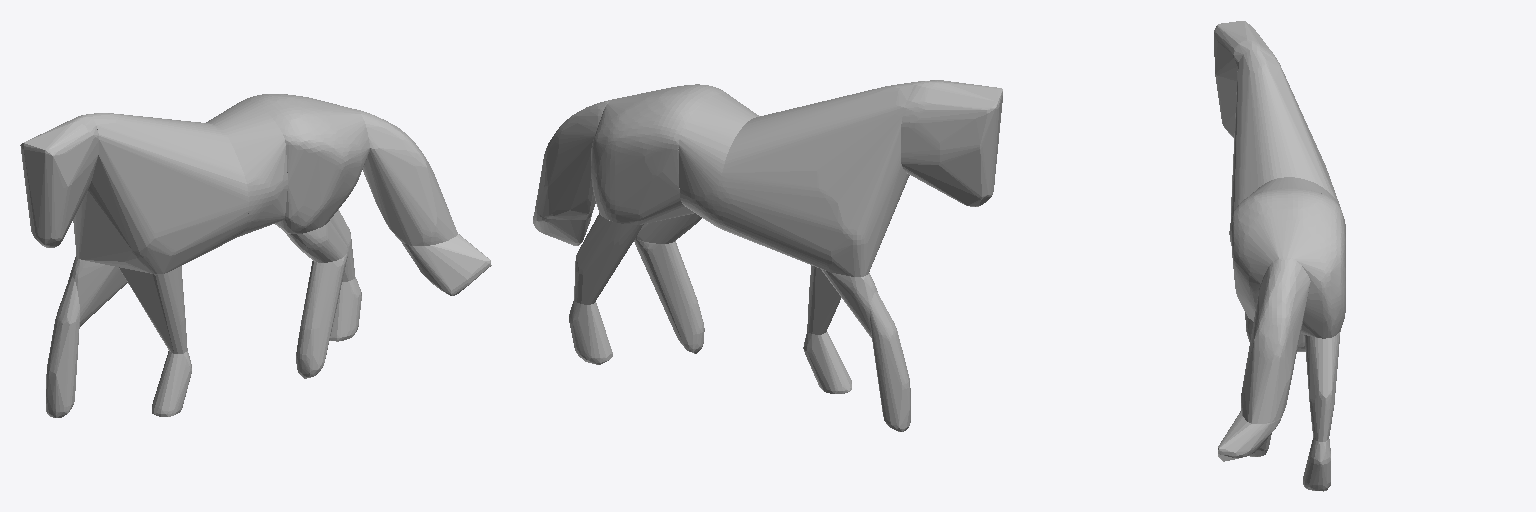
The robot description file, URDF, robot "root":
<robot name="root">
  <link name="link_coacd_convex_piece_0">
    <inertial>
      <origin xyz="0 0 0" rpy="0 0 0"/>
      <inertia ixx="8.27E-05" ixy="1.38E-04" ixz="2.84E-04" iyy="9.60E-04" iyz="-4.28E-05" izz="9.26E-04"/>
    </inertial>
    <visual>
      <origin xyz="0 0 0" rpy="0 0 0"/>
      <geometry>
        <mesh filename="coacd_convex_piece_0.obj" scale="1.0000E+00 1.0000E+00 1.0000E+00"/>
      </geometry>
      <material name="">
        <color rgba="7.50E-01 7.50E-01 7.50E-01 1"/>
      </material>
    </visual>
    <collision>
      <origin xyz="0 0 0" rpy="0 0 0"/>
      <geometry>
        <mesh filename="coacd_convex_piece_0.obj" scale="1.0000E+00 1.0000E+00 1.0000E+00"/>
      </geometry>
    </collision>
  </link>
  <link name="link_coacd_convex_piece_1">
    <inertial>
      <origin xyz="0 0 0" rpy="0 0 0"/>
      <inertia ixx="-4.05E-05" ixy="9.04E-05" ixz="-1.05E-04" iyy="2.29E-03" iyz="1.65E-06" izz="2.36E-03"/>
    </inertial>
    <visual>
      <origin xyz="0 0 0" rpy="0 0 0"/>
      <geometry>
        <mesh filename="coacd_convex_piece_1.obj" scale="1.0000E+00 1.0000E+00 1.0000E+00"/>
      </geometry>
      <material name="">
        <color rgba="7.50E-01 7.50E-01 7.50E-01 1"/>
      </material>
    </visual>
    <collision>
      <origin xyz="0 0 0" rpy="0 0 0"/>
      <geometry>
        <mesh filename="coacd_convex_piece_1.obj" scale="1.0000E+00 1.0000E+00 1.0000E+00"/>
      </geometry>
    </collision>
  </link>
  <joint name="link_coacd_convex_piece_1_joint" type="fixed">
    <origin xyz="0 0 0" rpy="0 0 0"/>
    <parent link="link_coacd_convex_piece_0"/>
    <child link="link_coacd_convex_piece_1"/>
  </joint>
  <link name="link_coacd_convex_piece_2">
    <inertial>
      <origin xyz="0 0 0" rpy="0 0 0"/>
      <inertia ixx="1.08E-03" ixy="-5.48E-04" ixz="1.91E-03" iyy="4.52E-03" iyz="3.11E-04" izz="3.63E-03"/>
    </inertial>
    <visual>
      <origin xyz="0 0 0" rpy="0 0 0"/>
      <geometry>
        <mesh filename="coacd_convex_piece_2.obj" scale="1.0000E+00 1.0000E+00 1.0000E+00"/>
      </geometry>
      <material name="">
        <color rgba="7.50E-01 7.50E-01 7.50E-01 1"/>
      </material>
    </visual>
    <collision>
      <origin xyz="0 0 0" rpy="0 0 0"/>
      <geometry>
        <mesh filename="coacd_convex_piece_2.obj" scale="1.0000E+00 1.0000E+00 1.0000E+00"/>
      </geometry>
    </collision>
  </link>
  <joint name="link_coacd_convex_piece_2_joint" type="fixed">
    <origin xyz="0 0 0" rpy="0 0 0"/>
    <parent link="link_coacd_convex_piece_1"/>
    <child link="link_coacd_convex_piece_2"/>
  </joint>
  <link name="link_coacd_convex_piece_3">
    <inertial>
      <origin xyz="0 0 0" rpy="0 0 0"/>
      <inertia ixx="1.68E-03" ixy="-1.10E-05" ixz="2.32E-03" iyy="5.58E-03" iyz="1.31E-04" izz="4.54E-03"/>
    </inertial>
    <visual>
      <origin xyz="0 0 0" rpy="0 0 0"/>
      <geometry>
        <mesh filename="coacd_convex_piece_3.obj" scale="1.0000E+00 1.0000E+00 1.0000E+00"/>
      </geometry>
      <material name="">
        <color rgba="7.50E-01 7.50E-01 7.50E-01 1"/>
      </material>
    </visual>
    <collision>
      <origin xyz="0 0 0" rpy="0 0 0"/>
      <geometry>
        <mesh filename="coacd_convex_piece_3.obj" scale="1.0000E+00 1.0000E+00 1.0000E+00"/>
      </geometry>
    </collision>
  </link>
  <joint name="link_coacd_convex_piece_3_joint" type="fixed">
    <origin xyz="0 0 0" rpy="0 0 0"/>
    <parent link="link_coacd_convex_piece_2"/>
    <child link="link_coacd_convex_piece_3"/>
  </joint>
  <link name="link_coacd_convex_piece_4">
    <inertial>
      <origin xyz="0 0 0" rpy="0 0 0"/>
      <inertia ixx="2.55E-05" ixy="-2.80E-05" ixz="-9.64E-05" iyy="1.84E-04" iyz="-1.17E-05" izz="1.71E-04"/>
    </inertial>
    <visual>
      <origin xyz="0 0 0" rpy="0 0 0"/>
      <geometry>
        <mesh filename="coacd_convex_piece_4.obj" scale="1.0000E+00 1.0000E+00 1.0000E+00"/>
      </geometry>
      <material name="">
        <color rgba="7.50E-01 7.50E-01 7.50E-01 1"/>
      </material>
    </visual>
    <collision>
      <origin xyz="0 0 0" rpy="0 0 0"/>
      <geometry>
        <mesh filename="coacd_convex_piece_4.obj" scale="1.0000E+00 1.0000E+00 1.0000E+00"/>
      </geometry>
    </collision>
  </link>
  <joint name="link_coacd_convex_piece_4_joint" type="fixed">
    <origin xyz="0 0 0" rpy="0 0 0"/>
    <parent link="link_coacd_convex_piece_3"/>
    <child link="link_coacd_convex_piece_4"/>
  </joint>
  <link name="link_coacd_convex_piece_5">
    <inertial>
      <origin xyz="0 0 0" rpy="0 0 0"/>
      <inertia ixx="2.08E-06" ixy="6.02E-05" ixz="-8.87E-05" iyy="3.00E-04" iyz="1.84E-05" izz="3.24E-04"/>
    </inertial>
    <visual>
      <origin xyz="0 0 0" rpy="0 0 0"/>
      <geometry>
        <mesh filename="coacd_convex_piece_5.obj" scale="1.0000E+00 1.0000E+00 1.0000E+00"/>
      </geometry>
      <material name="">
        <color rgba="7.50E-01 7.50E-01 7.50E-01 1"/>
      </material>
    </visual>
    <collision>
      <origin xyz="0 0 0" rpy="0 0 0"/>
      <geometry>
        <mesh filename="coacd_convex_piece_5.obj" scale="1.0000E+00 1.0000E+00 1.0000E+00"/>
      </geometry>
    </collision>
  </link>
  <joint name="link_coacd_convex_piece_5_joint" type="fixed">
    <origin xyz="0 0 0" rpy="0 0 0"/>
    <parent link="link_coacd_convex_piece_4"/>
    <child link="link_coacd_convex_piece_5"/>
  </joint>
  <link name="link_coacd_convex_piece_6">
    <inertial>
      <origin xyz="0 0 0" rpy="0 0 0"/>
      <inertia ixx="1.91E-04" ixy="2.79E-05" ixz="1.60E-04" iyy="3.33E-04" iyz="-3.42E-05" izz="1.56E-04"/>
    </inertial>
    <visual>
      <origin xyz="0 0 0" rpy="0 0 0"/>
      <geometry>
        <mesh filename="coacd_convex_piece_6.obj" scale="1.0000E+00 1.0000E+00 1.0000E+00"/>
      </geometry>
      <material name="">
        <color rgba="7.50E-01 7.50E-01 7.50E-01 1"/>
      </material>
    </visual>
    <collision>
      <origin xyz="0 0 0" rpy="0 0 0"/>
      <geometry>
        <mesh filename="coacd_convex_piece_6.obj" scale="1.0000E+00 1.0000E+00 1.0000E+00"/>
      </geometry>
    </collision>
  </link>
  <joint name="link_coacd_convex_piece_6_joint" type="fixed">
    <origin xyz="0 0 0" rpy="0 0 0"/>
    <parent link="link_coacd_convex_piece_5"/>
    <child link="link_coacd_convex_piece_6"/>
  </joint>
  <link name="link_coacd_convex_piece_7">
    <inertial>
      <origin xyz="0 0 0" rpy="0 0 0"/>
      <inertia ixx="1.58E-04" ixy="-1.27E-05" ixz="-9.51E-05" iyy="2.03E-04" iyz="-2.16E-05" izz="5.21E-05"/>
    </inertial>
    <visual>
      <origin xyz="0 0 0" rpy="0 0 0"/>
      <geometry>
        <mesh filename="coacd_convex_piece_7.obj" scale="1.0000E+00 1.0000E+00 1.0000E+00"/>
      </geometry>
      <material name="">
        <color rgba="7.50E-01 7.50E-01 7.50E-01 1"/>
      </material>
    </visual>
    <collision>
      <origin xyz="0 0 0" rpy="0 0 0"/>
      <geometry>
        <mesh filename="coacd_convex_piece_7.obj" scale="1.0000E+00 1.0000E+00 1.0000E+00"/>
      </geometry>
    </collision>
  </link>
  <joint name="link_coacd_convex_piece_7_joint" type="fixed">
    <origin xyz="0 0 0" rpy="0 0 0"/>
    <parent link="link_coacd_convex_piece_6"/>
    <child link="link_coacd_convex_piece_7"/>
  </joint>
  <link name="link_coacd_convex_piece_8">
    <inertial>
      <origin xyz="0 0 0" rpy="0 0 0"/>
      <inertia ixx="1.82E-04" ixy="6.67E-05" ixz="-2.99E-04" iyy="6.23E-04" iyz="4.51E-05" izz="4.62E-04"/>
    </inertial>
    <visual>
      <origin xyz="0 0 0" rpy="0 0 0"/>
      <geometry>
        <mesh filename="coacd_convex_piece_8.obj" scale="1.0000E+00 1.0000E+00 1.0000E+00"/>
      </geometry>
      <material name="">
        <color rgba="7.50E-01 7.50E-01 7.50E-01 1"/>
      </material>
    </visual>
    <collision>
      <origin xyz="0 0 0" rpy="0 0 0"/>
      <geometry>
        <mesh filename="coacd_convex_piece_8.obj" scale="1.0000E+00 1.0000E+00 1.0000E+00"/>
      </geometry>
    </collision>
  </link>
  <joint name="link_coacd_convex_piece_8_joint" type="fixed">
    <origin xyz="0 0 0" rpy="0 0 0"/>
    <parent link="link_coacd_convex_piece_7"/>
    <child link="link_coacd_convex_piece_8"/>
  </joint>
  <link name="link_coacd_convex_piece_9">
    <inertial>
      <origin xyz="0 0 0" rpy="0 0 0"/>
      <inertia ixx="5.89E-05" ixy="-1.19E-04" ixz="1.27E-04" iyy="3.71E-04" iyz="4.72E-05" izz="3.94E-04"/>
    </inertial>
    <visual>
      <origin xyz="0 0 0" rpy="0 0 0"/>
      <geometry>
        <mesh filename="coacd_convex_piece_9.obj" scale="1.0000E+00 1.0000E+00 1.0000E+00"/>
      </geometry>
      <material name="">
        <color rgba="7.50E-01 7.50E-01 7.50E-01 1"/>
      </material>
    </visual>
    <collision>
      <origin xyz="0 0 0" rpy="0 0 0"/>
      <geometry>
        <mesh filename="coacd_convex_piece_9.obj" scale="1.0000E+00 1.0000E+00 1.0000E+00"/>
      </geometry>
    </collision>
  </link>
  <joint name="link_coacd_convex_piece_9_joint" type="fixed">
    <origin xyz="0 0 0" rpy="0 0 0"/>
    <parent link="link_coacd_convex_piece_8"/>
    <child link="link_coacd_convex_piece_9"/>
  </joint>
  <link name="link_coacd_convex_piece_10">
    <inertial>
      <origin xyz="0 0 0" rpy="0 0 0"/>
      <inertia ixx="6.31E-04" ixy="-2.73E-04" ixz="-1.19E-03" iyy="2.37E-03" iyz="-8.64E-05" izz="2.23E-03"/>
    </inertial>
    <visual>
      <origin xyz="0 0 0" rpy="0 0 0"/>
      <geometry>
        <mesh filename="coacd_convex_piece_10.obj" scale="1.0000E+00 1.0000E+00 1.0000E+00"/>
      </geometry>
      <material name="">
        <color rgba="7.50E-01 7.50E-01 7.50E-01 1"/>
      </material>
    </visual>
    <collision>
      <origin xyz="0 0 0" rpy="0 0 0"/>
      <geometry>
        <mesh filename="coacd_convex_piece_10.obj" scale="1.0000E+00 1.0000E+00 1.0000E+00"/>
      </geometry>
    </collision>
  </link>
  <joint name="link_coacd_convex_piece_10_joint" type="fixed">
    <origin xyz="0 0 0" rpy="0 0 0"/>
    <parent link="link_coacd_convex_piece_9"/>
    <child link="link_coacd_convex_piece_10"/>
  </joint>
  <link name="link_coacd_convex_piece_11">
    <inertial>
      <origin xyz="0 0 0" rpy="0 0 0"/>
      <inertia ixx="-1.10E-05" ixy="1.48E-05" ixz="2.58E-05" iyy="8.03E-05" iyz="-2.58E-06" izz="9.81E-05"/>
    </inertial>
    <visual>
      <origin xyz="0 0 0" rpy="0 0 0"/>
      <geometry>
        <mesh filename="coacd_convex_piece_11.obj" scale="1.0000E+00 1.0000E+00 1.0000E+00"/>
      </geometry>
      <material name="">
        <color rgba="7.50E-01 7.50E-01 7.50E-01 1"/>
      </material>
    </visual>
    <collision>
      <origin xyz="0 0 0" rpy="0 0 0"/>
      <geometry>
        <mesh filename="coacd_convex_piece_11.obj" scale="1.0000E+00 1.0000E+00 1.0000E+00"/>
      </geometry>
    </collision>
  </link>
  <joint name="link_coacd_convex_piece_11_joint" type="fixed">
    <origin xyz="0 0 0" rpy="0 0 0"/>
    <parent link="link_coacd_convex_piece_10"/>
    <child link="link_coacd_convex_piece_11"/>
  </joint>
  <link name="link_coacd_convex_piece_12">
    <inertial>
      <origin xyz="0 0 0" rpy="0 0 0"/>
      <inertia ixx="1.68E-04" ixy="-4.95E-05" ixz="1.74E-04" iyy="3.41E-04" iyz="4.83E-05" izz="1.99E-04"/>
    </inertial>
    <visual>
      <origin xyz="0 0 0" rpy="0 0 0"/>
      <geometry>
        <mesh filename="coacd_convex_piece_12.obj" scale="1.0000E+00 1.0000E+00 1.0000E+00"/>
      </geometry>
      <material name="">
        <color rgba="7.50E-01 7.50E-01 7.50E-01 1"/>
      </material>
    </visual>
    <collision>
      <origin xyz="0 0 0" rpy="0 0 0"/>
      <geometry>
        <mesh filename="coacd_convex_piece_12.obj" scale="1.0000E+00 1.0000E+00 1.0000E+00"/>
      </geometry>
    </collision>
  </link>
  <joint name="link_coacd_convex_piece_12_joint" type="fixed">
    <origin xyz="0 0 0" rpy="0 0 0"/>
    <parent link="link_coacd_convex_piece_11"/>
    <child link="link_coacd_convex_piece_12"/>
  </joint>
  <link name="link_coacd_convex_piece_13">
    <inertial>
      <origin xyz="0 0 0" rpy="0 0 0"/>
      <inertia ixx="2.96E-04" ixy="-1.77E-05" ixz="-1.44E-04" iyy="2.22E-04" iyz="-3.53E-05" izz="1.40E-04"/>
    </inertial>
    <visual>
      <origin xyz="0 0 0" rpy="0 0 0"/>
      <geometry>
        <mesh filename="coacd_convex_piece_13.obj" scale="1.0000E+00 1.0000E+00 1.0000E+00"/>
      </geometry>
      <material name="">
        <color rgba="7.50E-01 7.50E-01 7.50E-01 1"/>
      </material>
    </visual>
    <collision>
      <origin xyz="0 0 0" rpy="0 0 0"/>
      <geometry>
        <mesh filename="coacd_convex_piece_13.obj" scale="1.0000E+00 1.0000E+00 1.0000E+00"/>
      </geometry>
    </collision>
  </link>
  <joint name="link_coacd_convex_piece_13_joint" type="fixed">
    <origin xyz="0 0 0" rpy="0 0 0"/>
    <parent link="link_coacd_convex_piece_12"/>
    <child link="link_coacd_convex_piece_13"/>
  </joint>
</robot>

--- What the picture shows (computed from the rendered views, not written in the file) ---
Views: 3 orthographic renders of the robot side by side, from view 1: azimuth 30°, elevation 25°; view 2: azimuth 150°, elevation 25°; view 3: azimuth 270°, elevation 25°.
Model root with 14 links and 13 joints (13 fixed), rooted at link_coacd_convex_piece_0, posed every joint at zero.
Links seen in each view (by area): view 1: link_coacd_convex_piece_3, link_coacd_convex_piece_10, link_coacd_convex_piece_1, link_coacd_convex_piece_2, link_coacd_convex_piece_13, link_coacd_convex_piece_6, link_coacd_convex_piece_8, link_coacd_convex_piece_4, link_coacd_convex_piece_0, link_coacd_convex_piece_5, link_coacd_convex_piece_7, link_coacd_convex_piece_11 (+2 smaller); view 2: link_coacd_convex_piece_3, link_coacd_convex_piece_10, link_coacd_convex_piece_2, link_coacd_convex_piece_13, link_coacd_convex_piece_1, link_coacd_convex_piece_6, link_coacd_convex_piece_8, link_coacd_convex_piece_9, link_coacd_convex_piece_12, link_coacd_convex_piece_7, link_coacd_convex_piece_4, link_coacd_convex_piece_5 (+2 smaller); view 3: link_coacd_convex_piece_10, link_coacd_convex_piece_3, link_coacd_convex_piece_1, link_coacd_convex_piece_2, link_coacd_convex_piece_9, link_coacd_convex_piece_0, link_coacd_convex_piece_12, link_coacd_convex_piece_13.
Boxes of the visible links, left/top/right/bottom form: link_coacd_convex_piece_3: left=73, top=113, right=248, bottom=273; link_coacd_convex_piece_10: left=243, top=94, right=369, bottom=233; link_coacd_convex_piece_1: left=355, top=109, right=457, bottom=245; link_coacd_convex_piece_2: left=20, top=114, right=98, bottom=247; link_coacd_convex_piece_13: left=206, top=101, right=287, bottom=236; link_coacd_convex_piece_6: left=296, top=253, right=347, bottom=378; link_coacd_convex_piece_8: left=46, top=277, right=79, bottom=417; link_coacd_convex_piece_4: left=119, top=266, right=187, bottom=353; link_coacd_convex_piece_0: left=402, top=234, right=491, bottom=295; link_coacd_convex_piece_5: left=68, top=256, right=127, bottom=326; link_coacd_convex_piece_7: left=152, top=351, right=191, bottom=416; link_coacd_convex_piece_11: left=285, top=221, right=347, bottom=262; link_coacd_convex_piece_3: left=719, top=81, right=918, bottom=276; link_coacd_convex_piece_10: left=591, top=84, right=728, bottom=224; link_coacd_convex_piece_2: left=901, top=80, right=1002, bottom=206; link_coacd_convex_piece_13: left=678, top=93, right=759, bottom=230; link_coacd_convex_piece_1: left=535, top=99, right=612, bottom=219; link_coacd_convex_piece_6: left=634, top=238, right=704, bottom=353; link_coacd_convex_piece_8: left=870, top=292, right=910, bottom=431; link_coacd_convex_piece_9: left=574, top=213, right=643, bottom=304; link_coacd_convex_piece_12: left=569, top=301, right=612, bottom=364; link_coacd_convex_piece_7: left=803, top=331, right=851, bottom=393; link_coacd_convex_piece_4: left=807, top=265, right=840, bottom=334; link_coacd_convex_piece_5: left=821, top=269, right=877, bottom=337; link_coacd_convex_piece_10: left=1231, top=188, right=1345, bottom=338; link_coacd_convex_piece_3: left=1231, top=50, right=1340, bottom=218; link_coacd_convex_piece_1: left=1241, top=257, right=1310, bottom=423; link_coacd_convex_piece_2: left=1214, top=21, right=1280, bottom=137; link_coacd_convex_piece_9: left=1304, top=330, right=1340, bottom=441; link_coacd_convex_piece_0: left=1218, top=410, right=1282, bottom=461; link_coacd_convex_piece_12: left=1303, top=438, right=1330, bottom=491; link_coacd_convex_piece_13: left=1229, top=177, right=1345, bottom=245.
Bounding box of the posed robot: 1.64 × 0.4256 × 1.1 m (x, y, z).
14 mesh visuals loaded from 14 distinct referenced files (14 OBJ).
